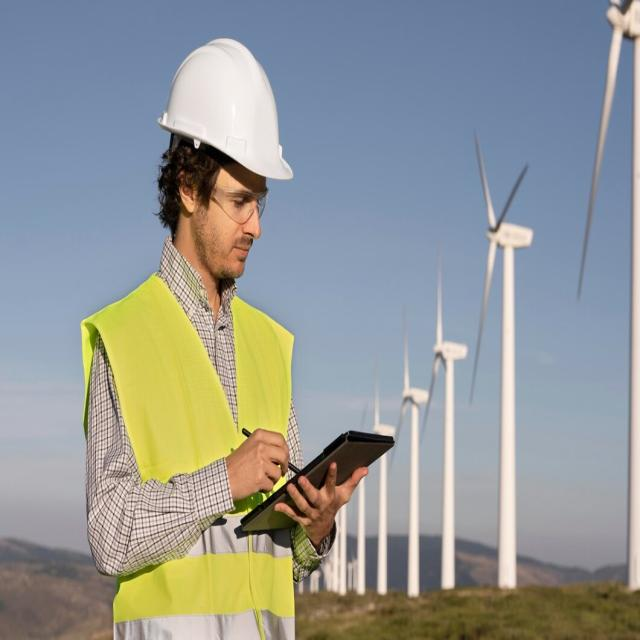solid-blade: (576, 26, 622, 300)
wind-turbine: (470, 131, 534, 588)
